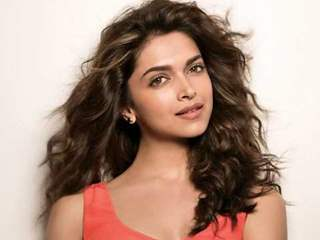NoMask: (139, 52, 212, 138)
